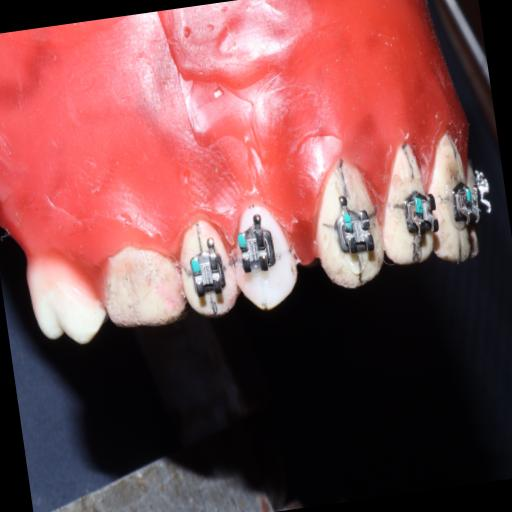correct_brace: (224, 192, 304, 322)
